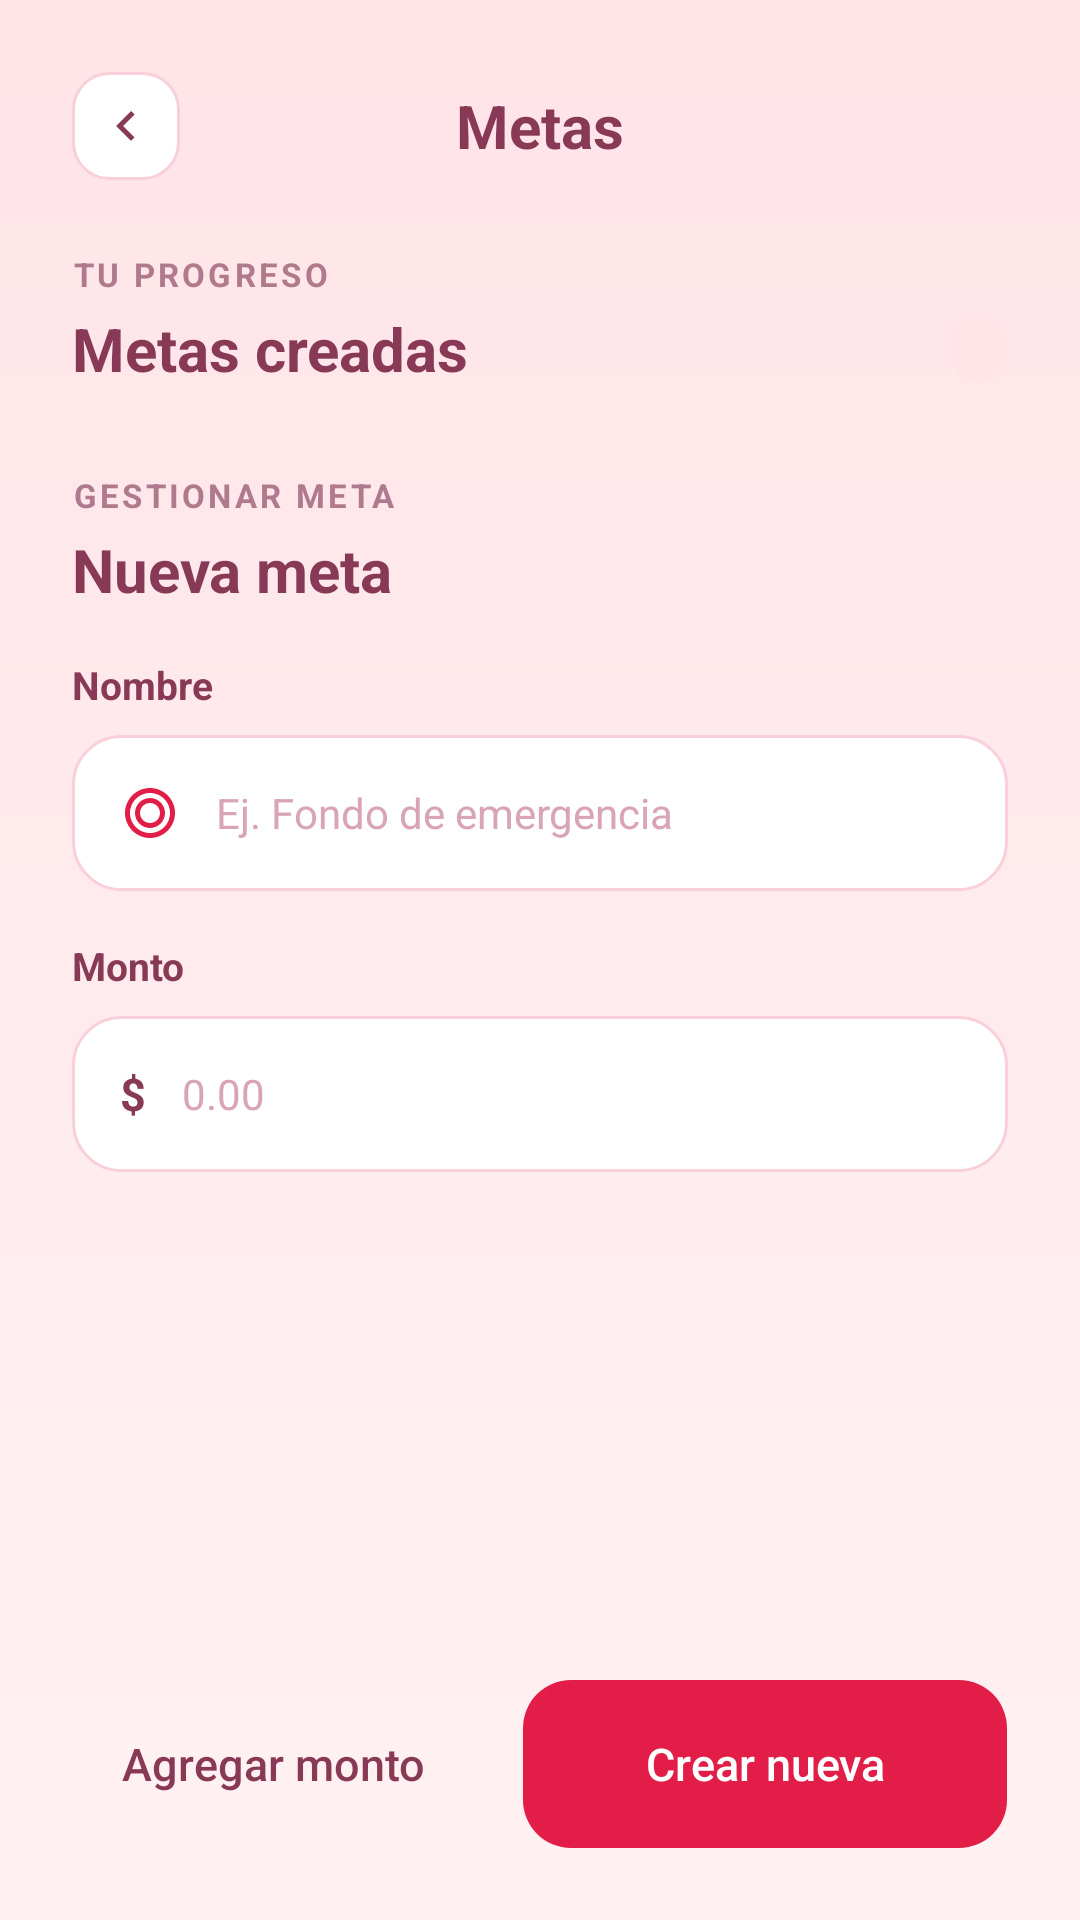

Icons on this 1080*1920 Android screen, each with the point to tap as (x,y):
meta back: (126,126)
